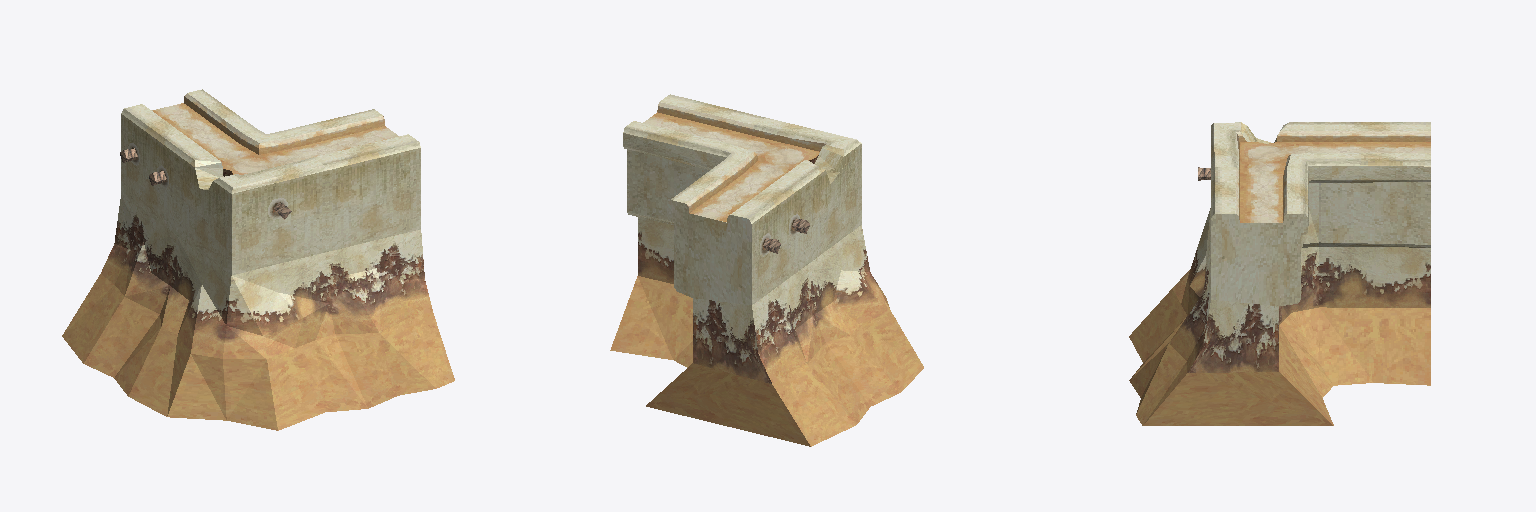
The picture shows the model from 3 angles: view 1: azimuth 30°, elevation 25°; view 2: azimuth 150°, elevation 25°; view 3: azimuth 270°, elevation 25°; orthographic projection.
Visible parts, largest first — view 1: Node 0; view 2: Node 0; view 3: Node 0.
Boxes of the visible parts, x1,y1,x2,y2 form: Node 0: [62, 89, 454, 430]; Node 0: [610, 94, 923, 446]; Node 0: [1129, 122, 1430, 425].
Size of the model in its own units: 13.75 by 10.72 by 13.77.
4 materials, 4 textured.